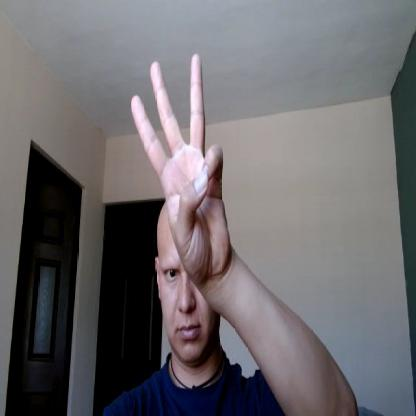W: (128, 49, 232, 279)
